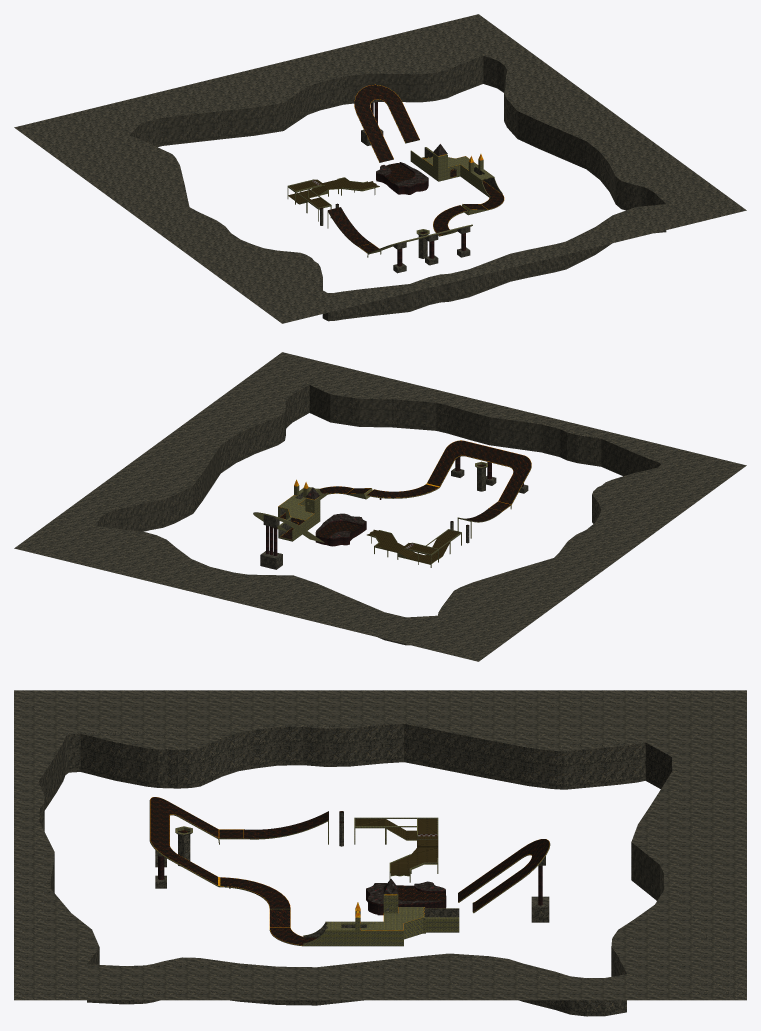
3 views of the same model, one above another, from view 1: azimuth 30°, elevation 25°; view 2: azimuth 150°, elevation 25°; view 3: azimuth 270°, elevation 25° (orthographic). The views are drawn at different scales.
Visible parts, largest first — view 1: Volcano_Bay_2k17_Main-paroi.001, Volcano_Bay_2k17_Main-road1.001, Volcano_Bay_2k17_Main-mur1.001, Volcano_Bay_2k17_Main-wood_road.001, Volcano_Bay_2k17_Main-mur2.001, Volcano_Bay_2k17_Main-sandroad.001; view 2: Volcano_Bay_2k17_Main-paroi.001, Volcano_Bay_2k17_Main-road1.001, Volcano_Bay_2k17_Main-mur1.001, Volcano_Bay_2k17_Main-wood_road.001, Volcano_Bay_2k17_Main-mur2.001, Volcano_Bay_2k17_Main-sandroad.001; view 3: Volcano_Bay_2k17_Main-paroi.001, Volcano_Bay_2k17_Main-road1.001, Volcano_Bay_2k17_Main-mur1.001, Volcano_Bay_2k17_Main-wood_road.001, Volcano_Bay_2k17_Main-mur2.001, Volcano_Bay_2k17_Main-sandroad.001, Volcano_Bay_2k17_Main-bords.001.
Boxes of the visible parts, <box> form: Volcano_Bay_2k17_Main-paroi.001: <box>14,14,746,323</box>; Volcano_Bay_2k17_Main-road1.001: <box>320,85,503,252</box>; Volcano_Bay_2k17_Main-mur1.001: <box>287,98,504,257</box>; Volcano_Bay_2k17_Main-wood_road.001: <box>288,178,379,207</box>; Volcano_Bay_2k17_Main-mur2.001: <box>370,102,465,266</box>; Volcano_Bay_2k17_Main-sandroad.001: <box>376,144,447,186</box>; Volcano_Bay_2k17_Main-paroi.001: <box>14,352,746,661</box>; Volcano_Bay_2k17_Main-road1.001: <box>280,440,531,539</box>; Volcano_Bay_2k17_Main-mur1.001: <box>253,455,531,567</box>; Volcano_Bay_2k17_Main-wood_road.001: <box>367,529,459,563</box>; Volcano_Bay_2k17_Main-mur2.001: <box>266,457,523,555</box>; Volcano_Bay_2k17_Main-sandroad.001: <box>305,487,366,538</box>; Volcano_Bay_2k17_Main-paroi.001: <box>14,690,746,1016</box>; Volcano_Bay_2k17_Main-road1.001: <box>150,797,549,945</box>; Volcano_Bay_2k17_Main-mur1.001: <box>149,799,550,946</box>; Volcano_Bay_2k17_Main-wood_road.001: <box>355,819,438,875</box>; Volcano_Bay_2k17_Main-mur2.001: <box>158,856,542,915</box>; Volcano_Bay_2k17_Main-sandroad.001: <box>366,879,445,903</box>; Volcano_Bay_2k17_Main-bords.001: <box>150,797,549,945</box>.
Bounding box in the file's own units: 133904 × 14839 × 133904.
Materials: 8 (8 with a texture image).
